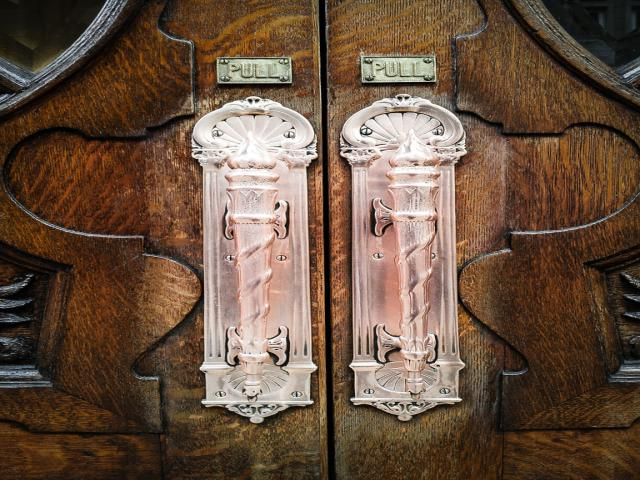Door-handle: (338, 92, 466, 422), (189, 95, 316, 424)
